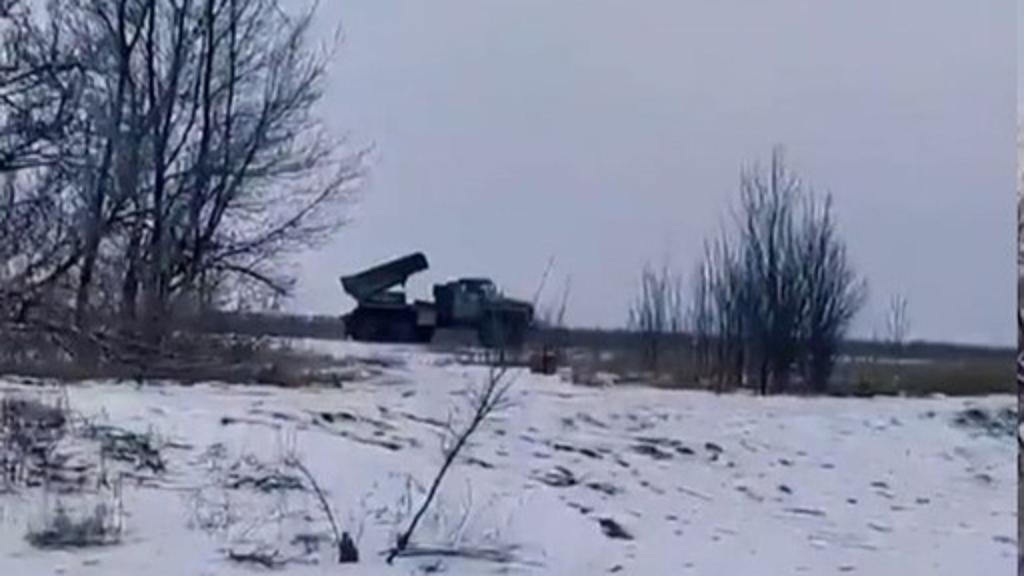MLRS: (338, 250, 534, 350)
